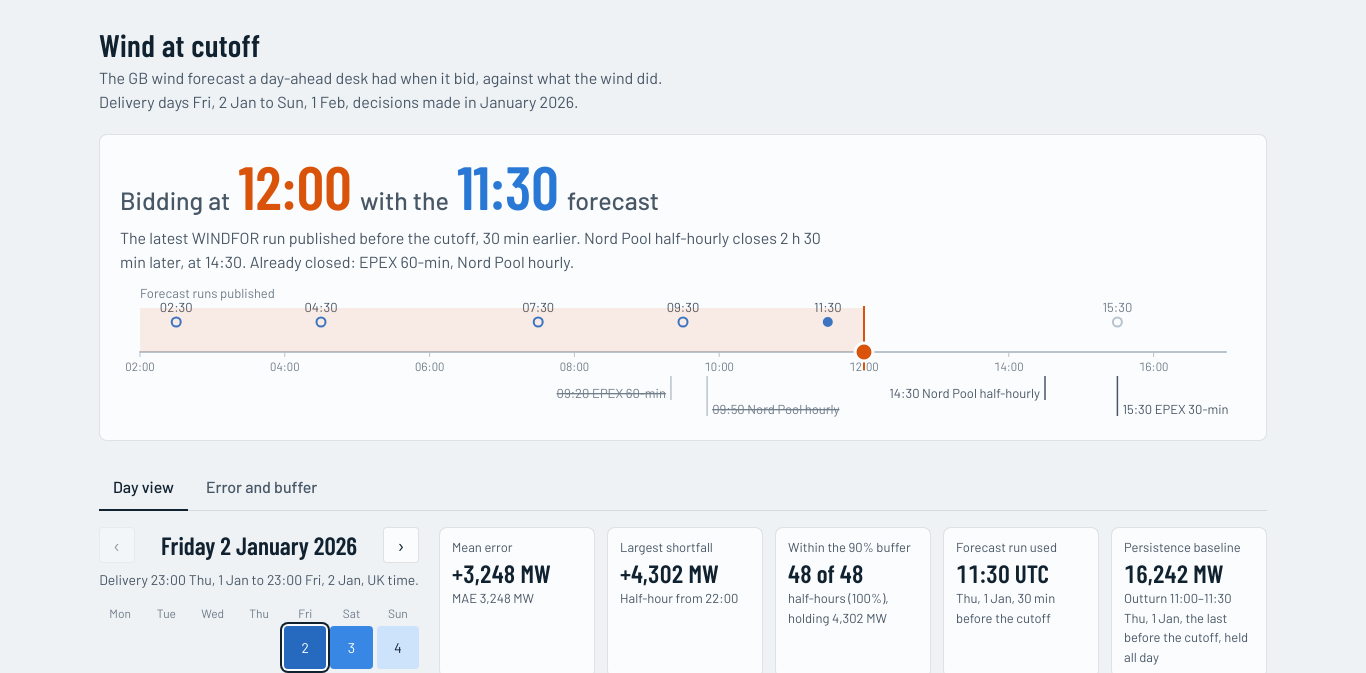
error and buffer view › is reached from the tab and keeps the cutoff
Click the button "Error and buffer".
click(262, 488)  # box [192,465,331,511]
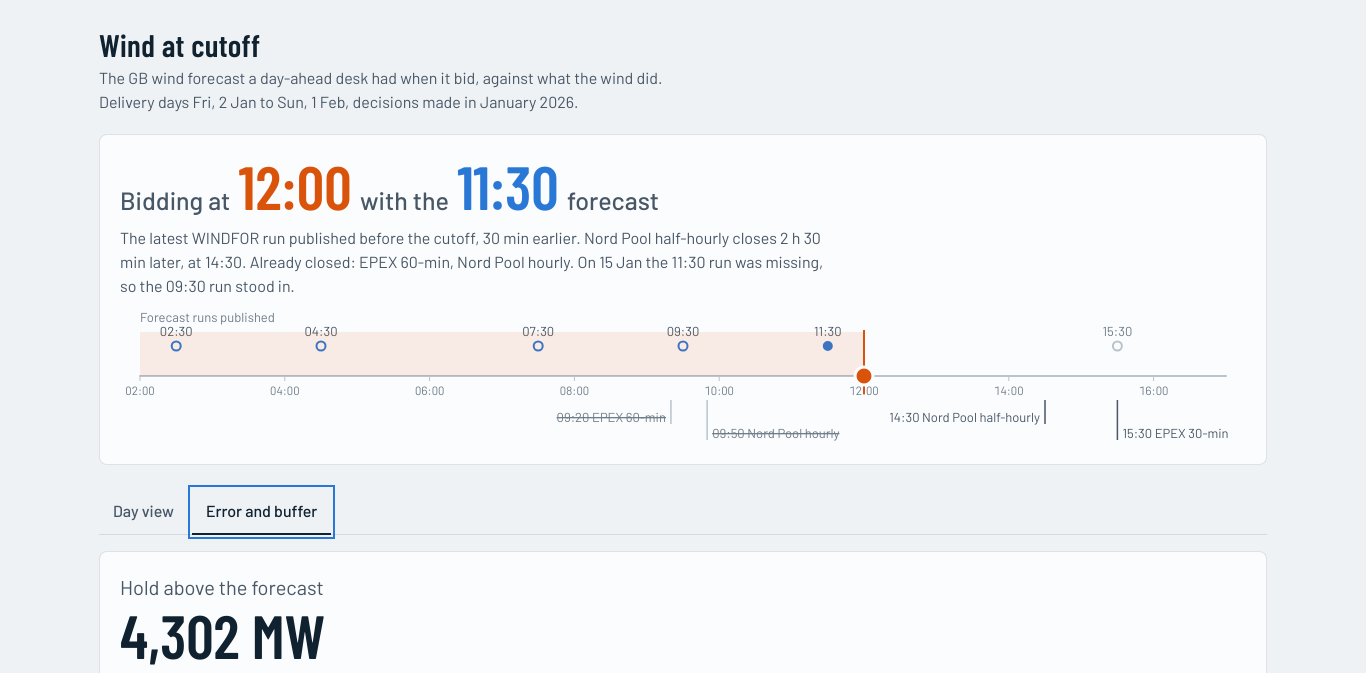
Result: the text "Hold above the forecast" is shown at [120,575,324,599]
